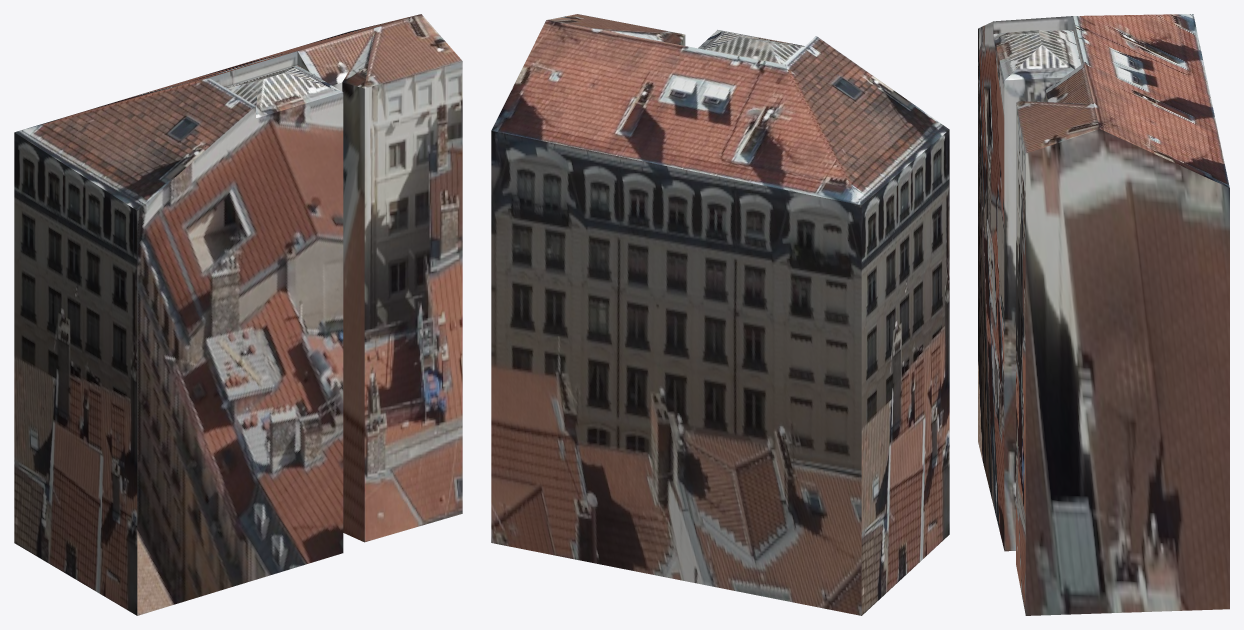
3 renders of one model, left to right at view 1: azimuth 30°, elevation 25°; view 2: azimuth 150°, elevation 25°; view 3: azimuth 270°, elevation 25°, orthographic. The views are drawn at different scales.
Parts seen in each view (by area): view 1: Z_UP; view 2: Z_UP; view 3: Z_UP.
Boxes of the visible parts, left/top/right/bottom form: Z_UP: left=14, top=14, right=462, bottom=615; Z_UP: left=491, top=14, right=949, bottom=615; Z_UP: left=978, top=14, right=1229, bottom=615.
Bounding box in the file's own units: 23 × 28.61 × 13.41.
2 materials, 1 textured.
